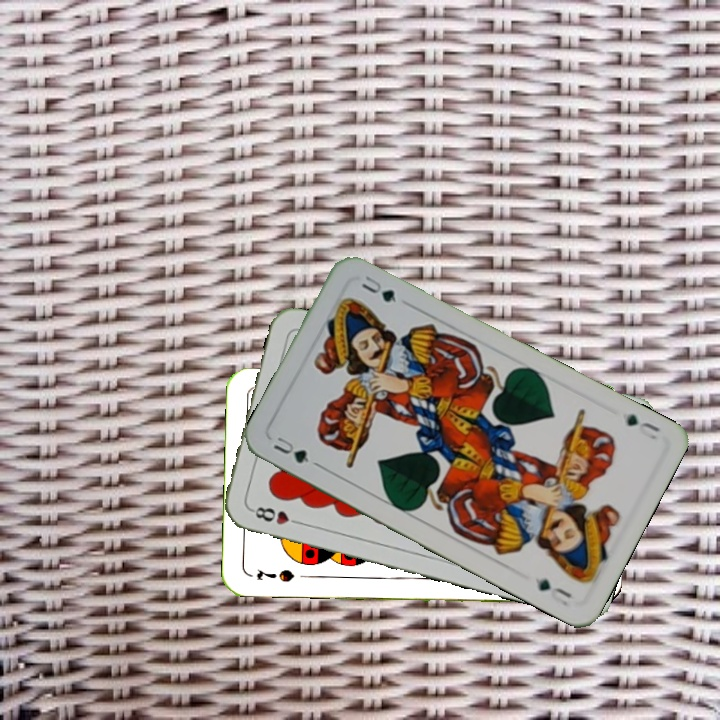GU: (269, 432, 313, 466), (622, 409, 663, 443)
H8: (247, 502, 305, 528)
S7: (252, 565, 297, 585)
